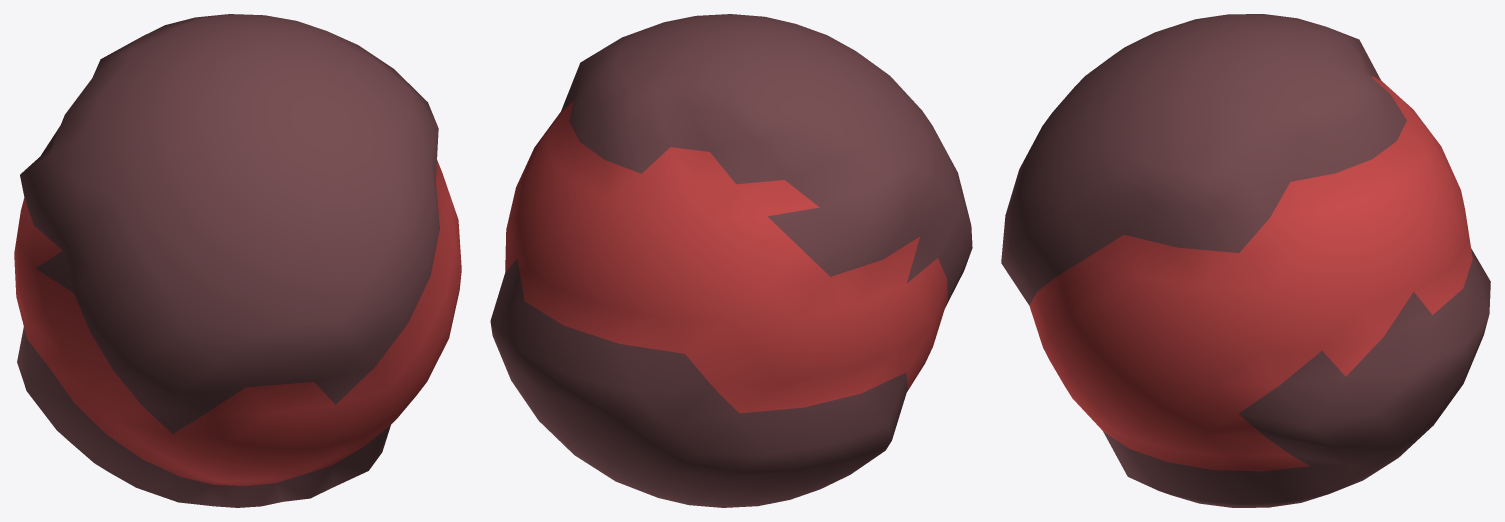
File: Planet_Purple_Model.fbx
3 views of the same model, side by side, from view 1: azimuth 30°, elevation 25°; view 2: azimuth 150°, elevation 25°; view 3: azimuth 270°, elevation 25° (orthographic).
Parts seen in each view (by area): view 1: pSphere7; view 2: pSphere7; view 3: pSphere7.
Boxes of the visible parts, <box> form: pSphere7: <box>14,14,461,507</box>; pSphere7: <box>490,14,972,507</box>; pSphere7: <box>1001,14,1490,507</box>.
Bounding box in the file's own units: 0.1942 × 0.2131 × 0.2107.
1 material, 1 textured.
